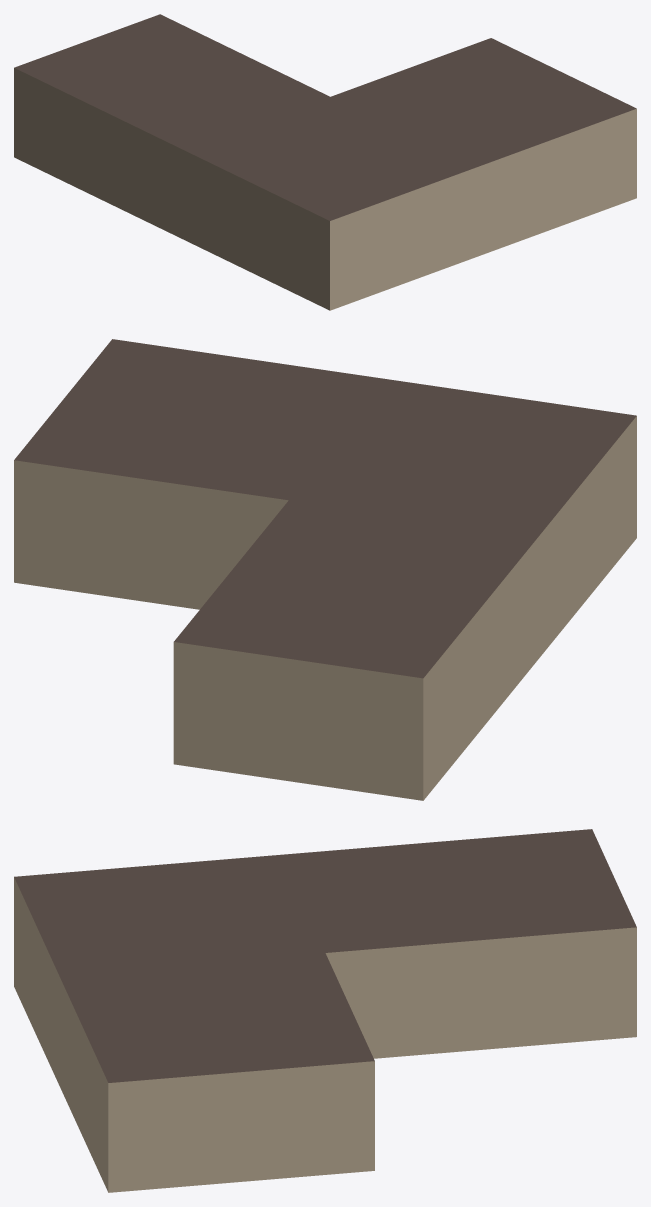
The picture shows the model from 3 angles, top to bottom: view 1: azimuth 30°, elevation 25°; view 2: azimuth 150°, elevation 25°; view 3: azimuth 270°, elevation 25°; orthographic projection. The views are drawn at different scales.
Visible parts, largest first — view 1: HP-w1376988752; view 2: HP-w1376988752; view 3: HP-w1376988752.
Part boxes in pixels (x1,y1,x2,y2): HP-w1376988752: (14, 14, 636, 310); HP-w1376988752: (14, 339, 636, 800); HP-w1376988752: (14, 829, 636, 1192).
Bounding box in the file's own units: 29.79 × 6 × 30.87.
